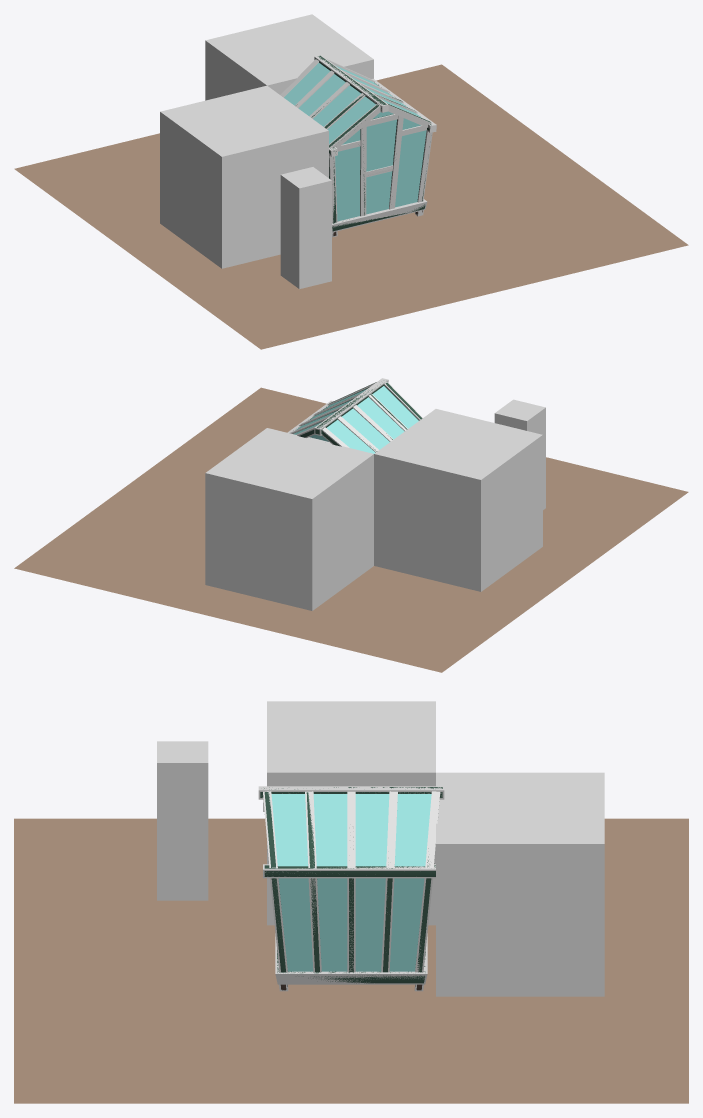
The model's file is GreenHouse.fbx.
3 views of the same model, one above another, from view 1: azimuth 30°, elevation 25°; view 2: azimuth 150°, elevation 25°; view 3: azimuth 270°, elevation 25° (orthographic). The views are drawn at different scales.
Parts seen in each view (by area): view 1: Terrain, Cube, Cube.002, Cube.001, Cube.003, Cube.004, Cube.010, Cube.023, Cube.030; view 2: Terrain, Cube, Cube.001, Cube.002, Cube.003, Cube.030; view 3: Terrain, Cube.001, Cube.002, Cube, Cube.003, Cube.004, Cube.030, Cube.027, Cube.033, Cube.029, Cube.031.
Part boxes in pixels (x1,y1,x2,y2): Terrain: (14,64,688,349); Cube: (160,85,328,268); Cube.002: (284,55,431,236); Cube.001: (205,14,373,100); Cube.003: (280,167,331,288); Cube.004: (332,199,427,232); Cube.010: (360,124,366,216); Cube.023: (389,116,403,209); Cube.030: (314,55,388,112); Terrain: (14,387,688,672); Cube: (374,409,542,591); Cube.001: (205,428,373,610); Cube.002: (293,381,422,453); Cube.003: (494,399,545,509); Cube.030: (314,378,388,435); Terrain: (14,818,688,1103); Cube.001: (436,772,604,996); Cube.002: (260,787,442,990); Cube: (267,701,435,925); Cube.003: (157,741,208,900); Cube.004: (275,933,427,984); Cube.030: (258,786,444,799); Cube.027: (263,864,435,878); Cube.033: (386,791,397,868); Cube.029: (347,791,355,868); Cube.031: (425,791,440,868).
Bounding box in the file's own units: 800 × 227 × 800.
